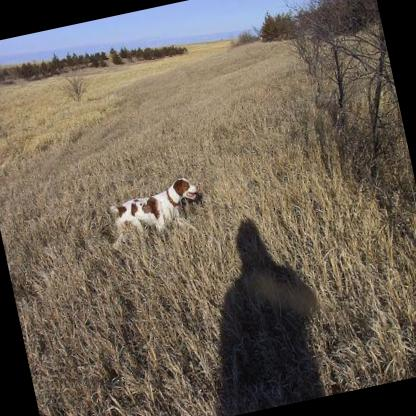Brittany_spaniel: (99, 171, 208, 255)
